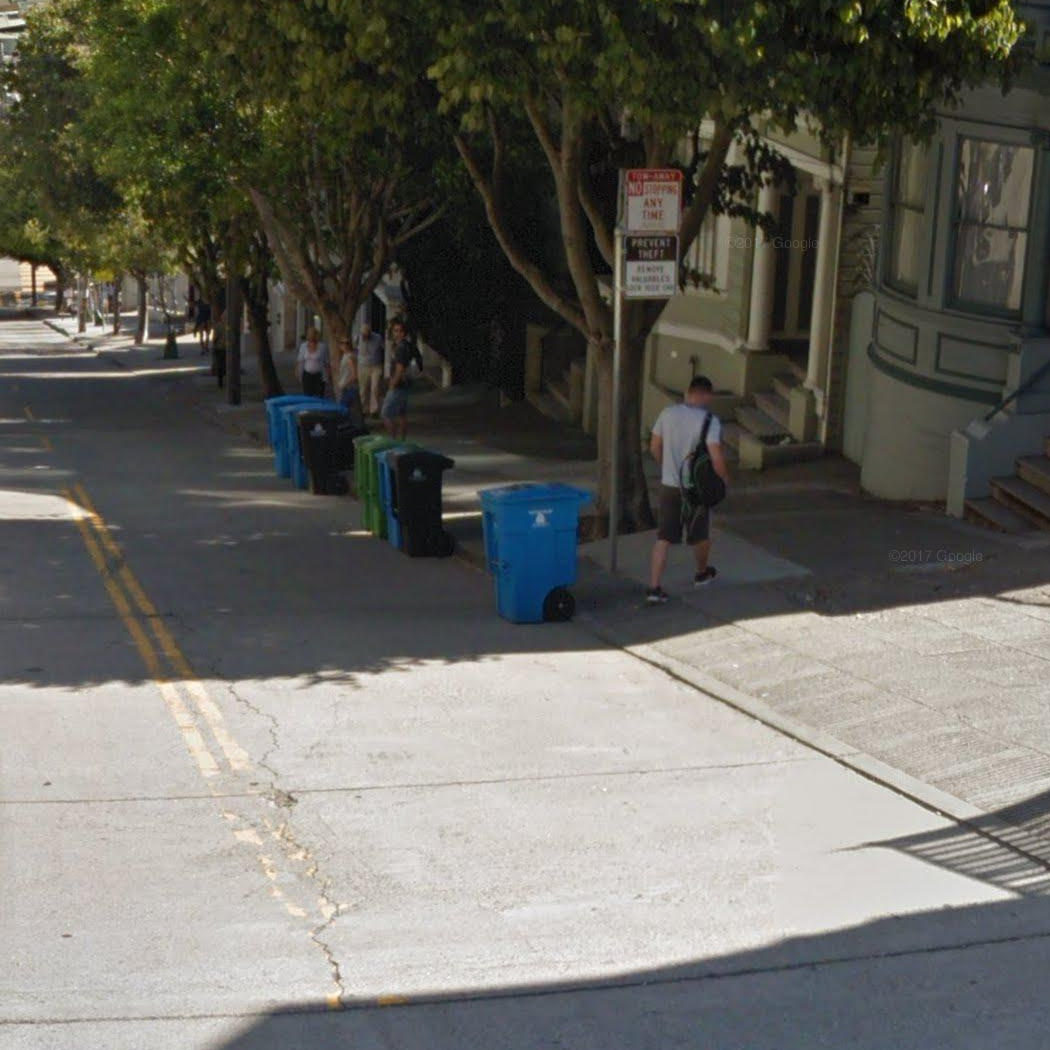No Parking Anytime: (624, 168, 683, 234)
